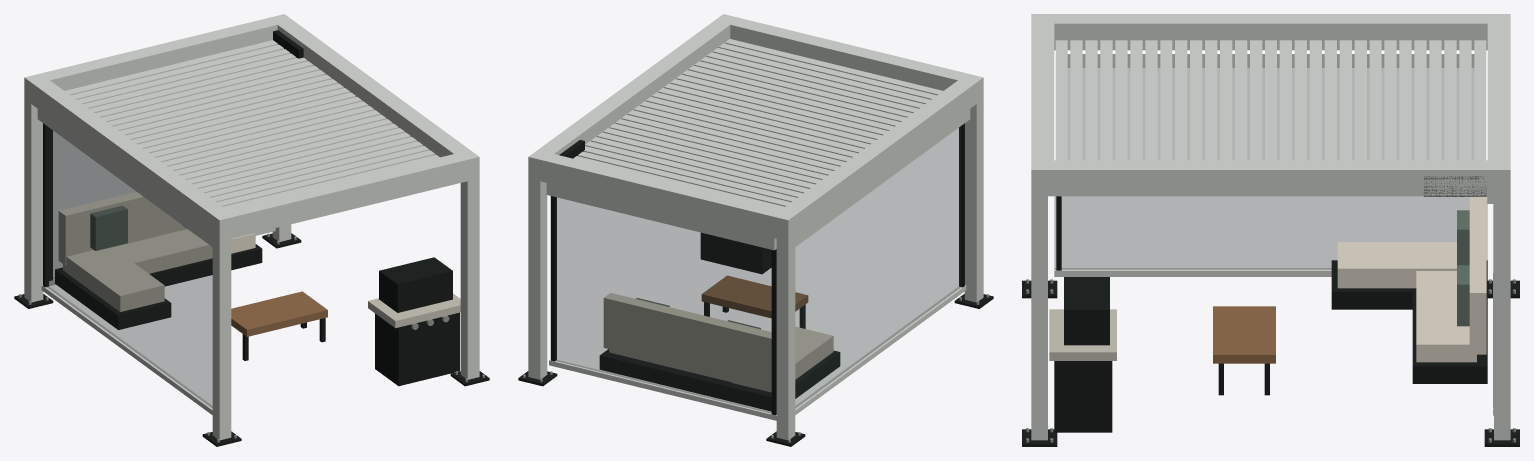
File: coordinatez-axis-10x13-cloud.glb
3 renders of one model, left to right at view 1: azimuth 30°, elevation 25°; view 2: azimuth 150°, elevation 25°; view 3: azimuth 270°, elevation 25°, orthographic. The views are drawn at different scales.
Visible parts, largest first — view 1: Left motorized wall, Structural post (×3), Front motor beam, Left beam, Rear drainage beam, Right beam, BBQ cabinet, Chaise cushion, Sofa back, Rear motorized wall, BBQ hood, Sofa seat (+36 smaller); view 2: Rear motorized wall, Left motorized wall, Structural post (×3), Sofa back, Rear drainage beam, Left beam, Front motor beam, Right beam, Sofa base, Rear wall cassette, Coffee table top, Rear wall guide (×2) (+35 smaller); view 3: Left motorized wall, Right beam, Left beam, Structural post (×2), Chaise cushion, Rear drainage beam, Front motor beam, Sofa seat, BBQ cabinet, Coffee table top, BBQ hood, Sofa back (+36 smaller).
Part boxes in pixels (x1,y1,x2,y2): Left motorized wall: (47, 126, 212, 407); Structural post (×3): (24, 99, 479, 440); Front motor beam: (210, 150, 479, 241); Left beam: (24, 73, 235, 241); Rear drainage beam: (24, 14, 293, 105); Right beam: (269, 14, 479, 181); BBQ cabinet: (375, 312, 459, 386); Chaise cushion: (63, 247, 164, 311); Sofa back: (58, 192, 186, 265); Rear motorized wall: (53, 131, 135, 278); BBQ hood: (379, 257, 452, 312); Sofa seat: (113, 229, 255, 273); Rear motorized wall: (550, 196, 771, 413); Left motorized wall: (795, 126, 960, 407); Structural post (×3): (528, 99, 983, 440); Sofa back: (603, 293, 771, 388); Rear drainage beam: (528, 150, 797, 241); Left beam: (774, 73, 983, 240); Front motor beam: (714, 14, 983, 96); Right beam: (528, 14, 738, 182); Sofa base: (599, 349, 806, 411); Rear wall cassette: (546, 183, 776, 250); Coffee table top: (701, 275, 808, 317); Rear wall guide (×2): (551, 196, 776, 415); Left motorized wall: (1054, 68, 1487, 269); Right beam: (1031, 160, 1510, 196); Left beam: (1031, 14, 1510, 49); Structural post (×2): (1031, 196, 1510, 440); Chaise cushion: (1337, 242, 1456, 288); Rear drainage beam: (1487, 14, 1510, 196); Front motor beam: (1031, 14, 1054, 196); Sofa seat: (1416, 271, 1476, 362); BBQ cabinet: (1054, 361, 1112, 432); Coffee table top: (1213, 306, 1275, 363); BBQ hood: (1064, 277, 1109, 345); Sofa back: (1469, 196, 1486, 354).
Bounding box in the file's own units: 3.2 × 2.49 × 4.11.
